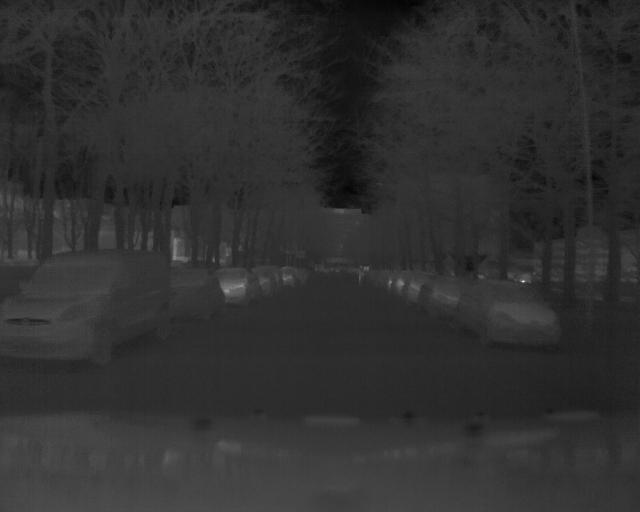car: (3, 250, 176, 365), (457, 277, 564, 351), (215, 264, 262, 307), (278, 264, 302, 289)
